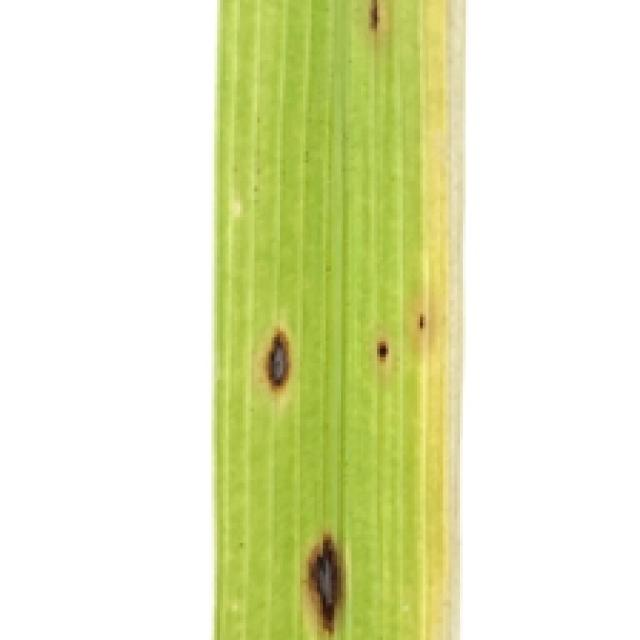Rice___Rice_Blast: (217, 0, 466, 637)
